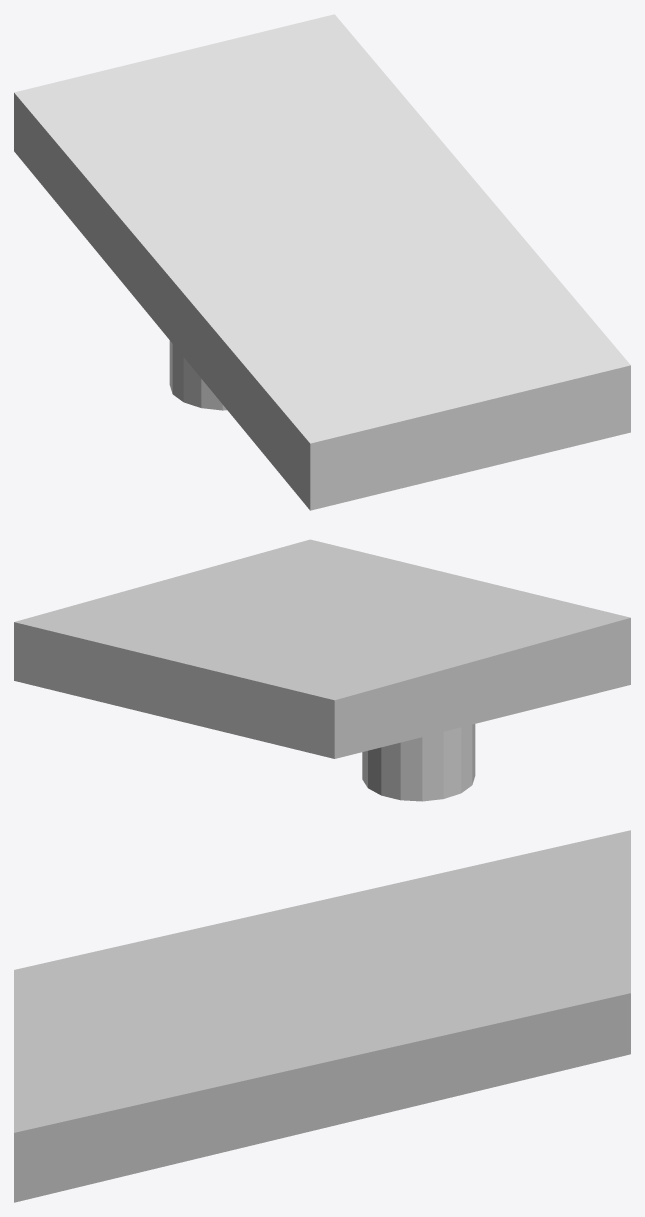
The model's file is dc_metrobus_roof_1f.obj.
The picture shows the model from 3 angles, top to bottom: view 1: azimuth 30°, elevation 25°; view 2: azimuth 150°, elevation 25°; view 3: azimuth 270°, elevation 25°; orthographic projection. The views are drawn at different scales.
Visible parts, largest first — view 1: part1f; view 2: part1f; view 3: part1f.
Boxes of the visible parts, box(x1,y1,x2,y2) form: part1f: box(14, 14, 630, 510); part1f: box(14, 539, 630, 801); part1f: box(14, 830, 630, 1202).
Size of the model in its own units: 0.625 by 0.375 by 1.
1 material, 1 textured.
